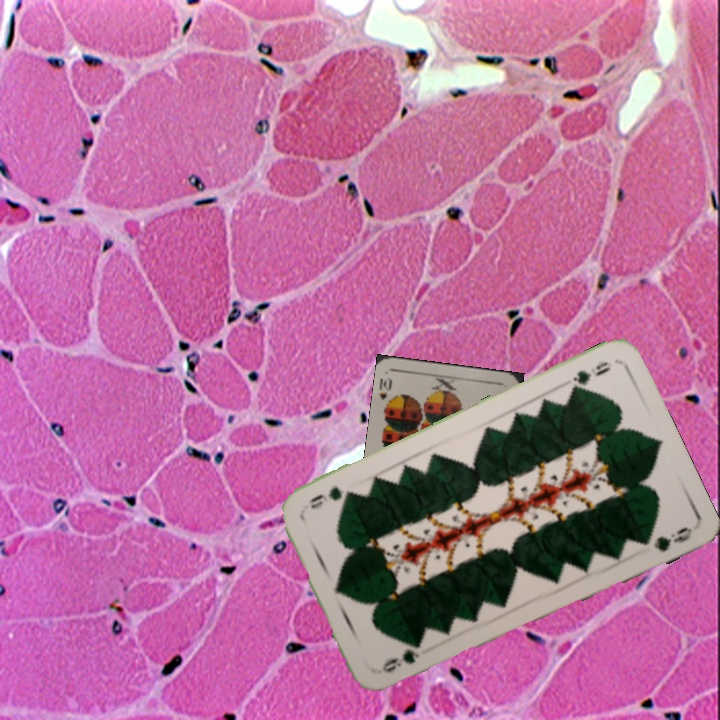G9: (566, 357, 613, 395), (378, 646, 422, 676)
S10: (375, 373, 395, 411)
